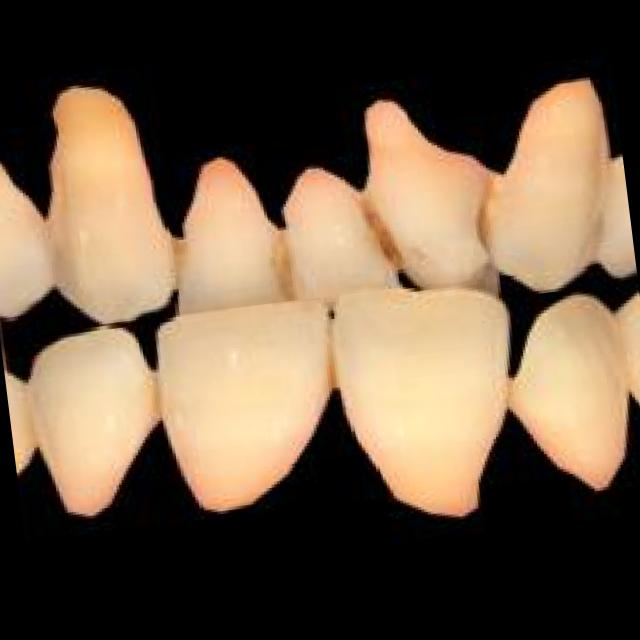cavity: (353, 187, 408, 286), (54, 93, 113, 142), (42, 206, 76, 286), (467, 178, 504, 249), (132, 377, 170, 432), (272, 235, 294, 302), (161, 241, 192, 287), (318, 350, 344, 394)
tooth: (330, 282, 524, 540), (150, 300, 342, 519), (31, 85, 175, 329), (476, 76, 620, 292), (508, 290, 637, 501), (23, 328, 156, 526), (364, 102, 477, 298), (160, 153, 292, 314), (274, 164, 402, 304)
